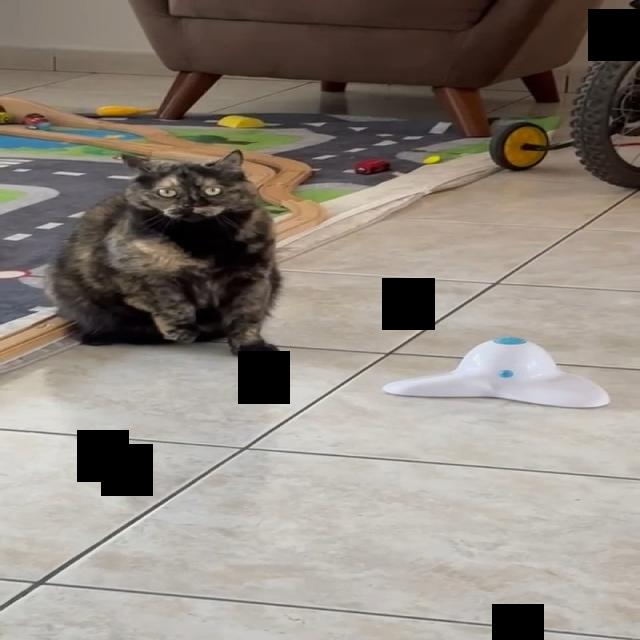authorized: (41, 148, 283, 359)
